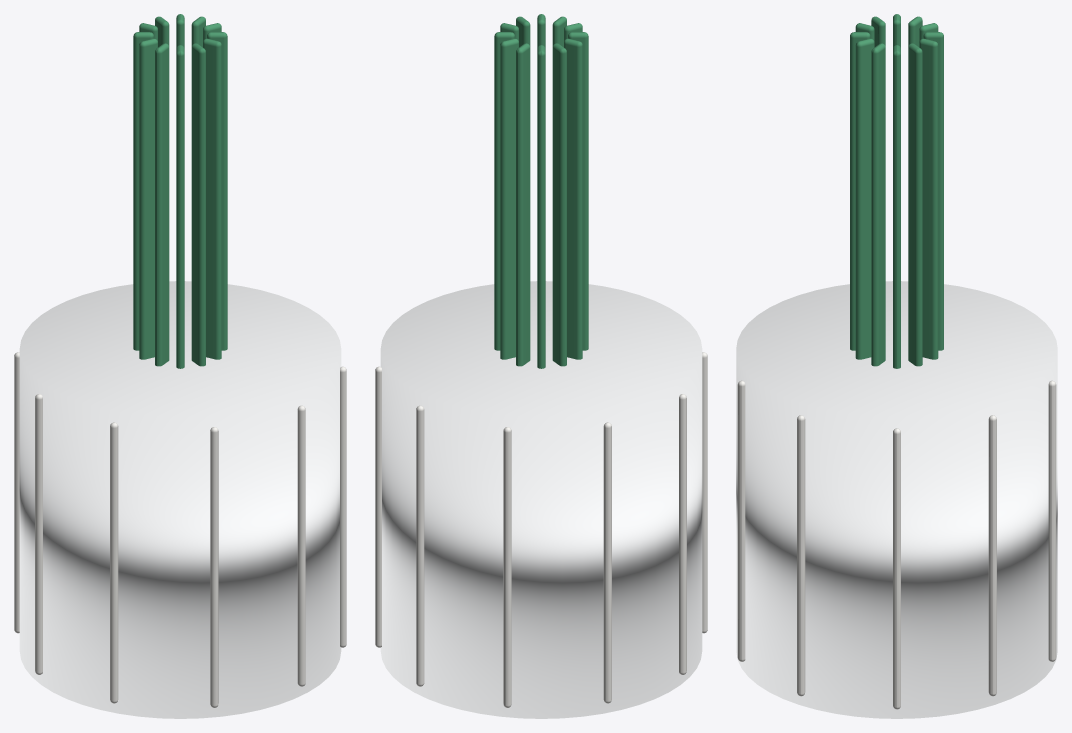
Rendered from p2s_video_so_ong_bookshelf_planter.glb.
3 views of the same model, side by side, from view 1: azimuth 30°, elevation 25°; view 2: azimuth 150°, elevation 25°; view 3: azimuth 270°, elevation 25° (orthographic).
Parts seen in each view (by area): view 1: ribbed_planter, long_leaf.006, long_leaf.010, long_leaf.007, long_leaf.009, long_leaf.008, planter_vertical_rib.007, planter_vertical_rib.008, planter_vertical_rib.006, long_leaf.005, long_leaf.011, planter_vertical_rib.005 (+2 smaller); view 2: ribbed_planter, long_leaf.002, long_leaf.006, long_leaf.003, long_leaf.005, long_leaf.004, planter_vertical_rib.002, planter_vertical_rib.003, planter_vertical_rib.004, long_leaf.001, long_leaf.007, planter_vertical_rib.005 (+2 smaller); view 3: ribbed_planter, long_leaf.002, long_leaf.010, long_leaf.001, long_leaf.011, long_leaf, planter_vertical_rib.001, planter_vertical_rib.009, planter_vertical_rib.002, planter_vertical_rib.008, planter_vertical_rib, long_leaf.003 (+1 smaller).
Part boxes in pixels (x1,y1,x2,y2): ribbed_planter: (19,281,341,718); long_leaf.006: (139,38,157,359); long_leaf.010: (203,38,221,359); long_leaf.007: (155,43,169,366); long_leaf.009: (191,43,205,366); long_leaf.008: (176,45,184,368); planter_vertical_rib.007: (210,427,218,707); planter_vertical_rib.008: (297,405,305,686); planter_vertical_rib.006: (110,422,118,703); long_leaf.005: (133,32,153,350); long_leaf.011: (207,32,227,350); planter_vertical_rib.005: (35,394,42,674); ribbed_planter: (380,281,702,718); long_leaf.002: (500,38,518,359); long_leaf.006: (564,38,582,359); long_leaf.003: (516,43,530,366); long_leaf.005: (552,43,566,366); long_leaf.004: (537,45,545,368); planter_vertical_rib.002: (416,405,424,686); planter_vertical_rib.003: (503,427,511,707); planter_vertical_rib.004: (603,422,611,703); long_leaf.001: (494,32,514,350); long_leaf.007: (568,32,588,350); planter_vertical_rib.005: (679,394,686,674); ribbed_planter: (736,281,1057,718); long_leaf.002: (919,38,938,359); long_leaf.010: (855,38,874,359); long_leaf.001: (908,43,922,366); long_leaf.011: (871,43,885,366); long_leaf: (893,45,900,368); planter_vertical_rib.001: (988,415,996,696); planter_vertical_rib.009: (797,415,805,696); planter_vertical_rib.002: (1048,380,1056,661); planter_vertical_rib.008: (737,380,745,661); planter_vertical_rib: (893,428,900,709); long_leaf.003: (923,32,943,350).
Size of the model in its own units: 0.0801 by 0.1634 by 0.077.
